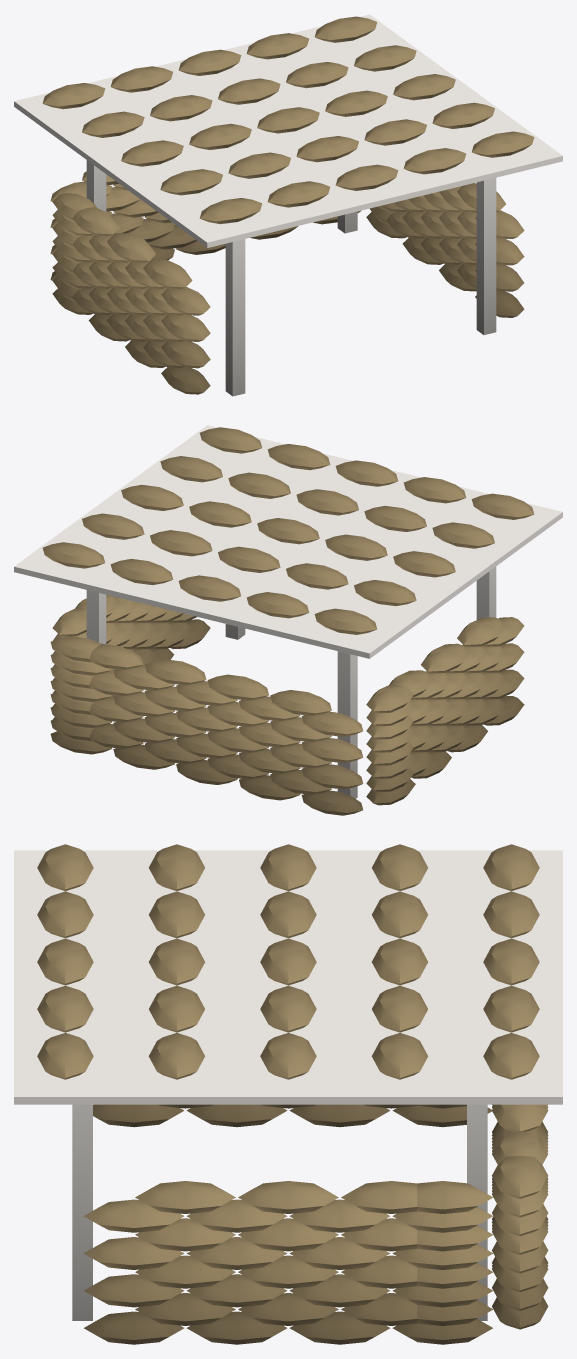
File: mg_nest.glb
3 views of the same model, one above another, from view 1: azimuth 30°, elevation 25°; view 2: azimuth 150°, elevation 25°; view 3: azimuth 270°, elevation 25° (orthographic). The views are drawn at different scales.
Visible parts, largest first — view 1: mg_nest_LOD0; view 2: mg_nest_LOD0; view 3: mg_nest_LOD0.
Part boxes in pixels (box(x1,y1,x2,y2)): mg_nest_LOD0: box(14, 14, 562, 396); mg_nest_LOD0: box(14, 425, 562, 815); mg_nest_LOD0: box(14, 844, 562, 1344).
Size of what is drawn, in the model's own units: 3.4 by 1.8 by 3.2.
